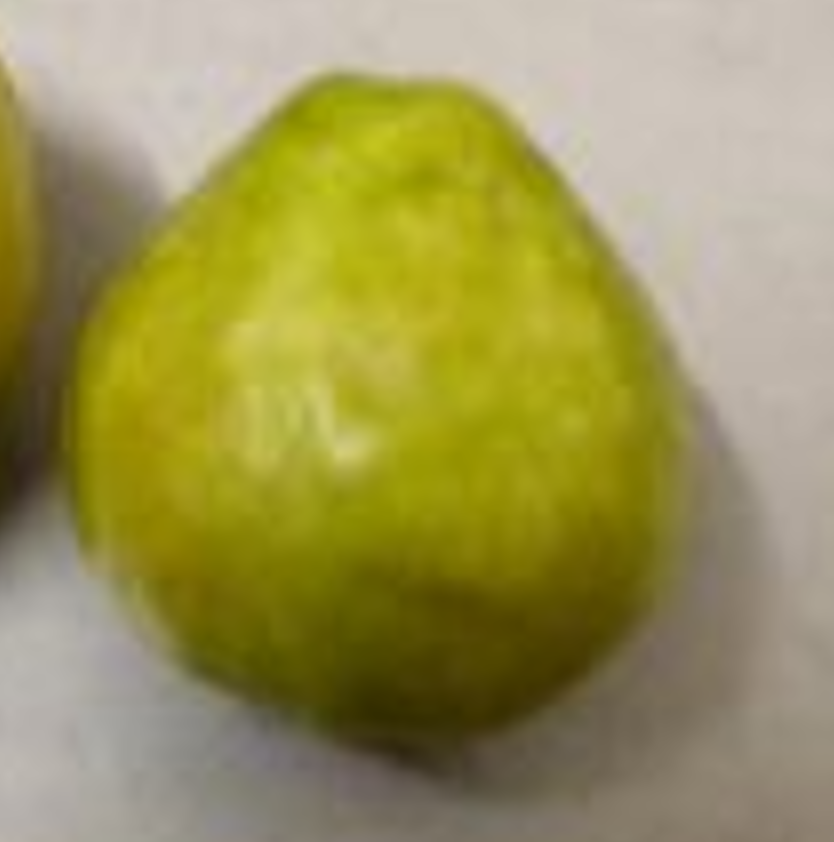guava_A: (56, 69, 701, 753)
